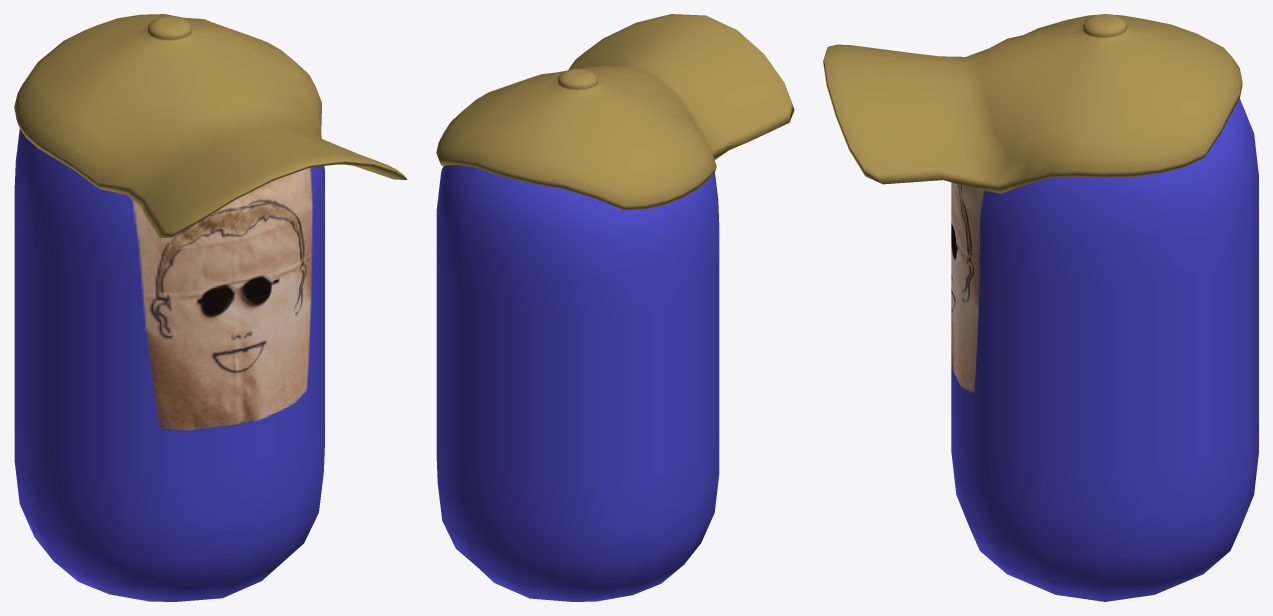
Rendered from boy.fbx.
The picture shows the model from 3 angles, left to right: view 1: azimuth 30°, elevation 25°; view 2: azimuth 150°, elevation 25°; view 3: azimuth 270°, elevation 25°; orthographic projection. The views are drawn at different scales.
Visible parts, largest first — view 1: boy, cap; view 2: boy, cap; view 3: boy, cap.
Boxes of the visible parts, x1,y1,x2,y2 form: boy: (14,128,324,601); cap: (14,14,407,238); boy: (436,164,719,601); cap: (436,14,794,210); boy: (951,99,1258,601); cap: (823,14,1242,193).
Size of the model in its own units: 66.03 by 132 by 93.02.
